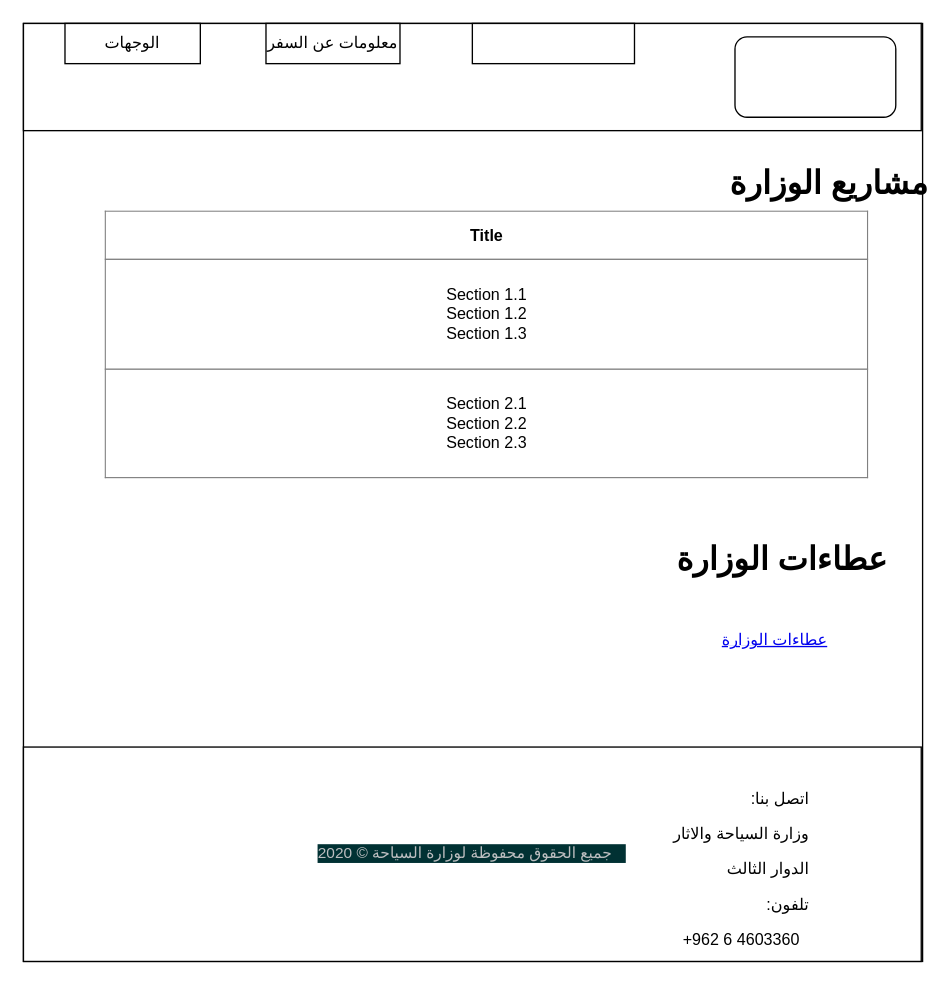
Image size: 951x985. Some labels were removed from this diagram. The shapes that lost their labels are listed below. From the top down, each one's centre as x and y in pixels, then its label:
At point 552,43: "الضفحة الرئيسية".
At point 815,76: "Logo وزارة السياحة والاثار".
